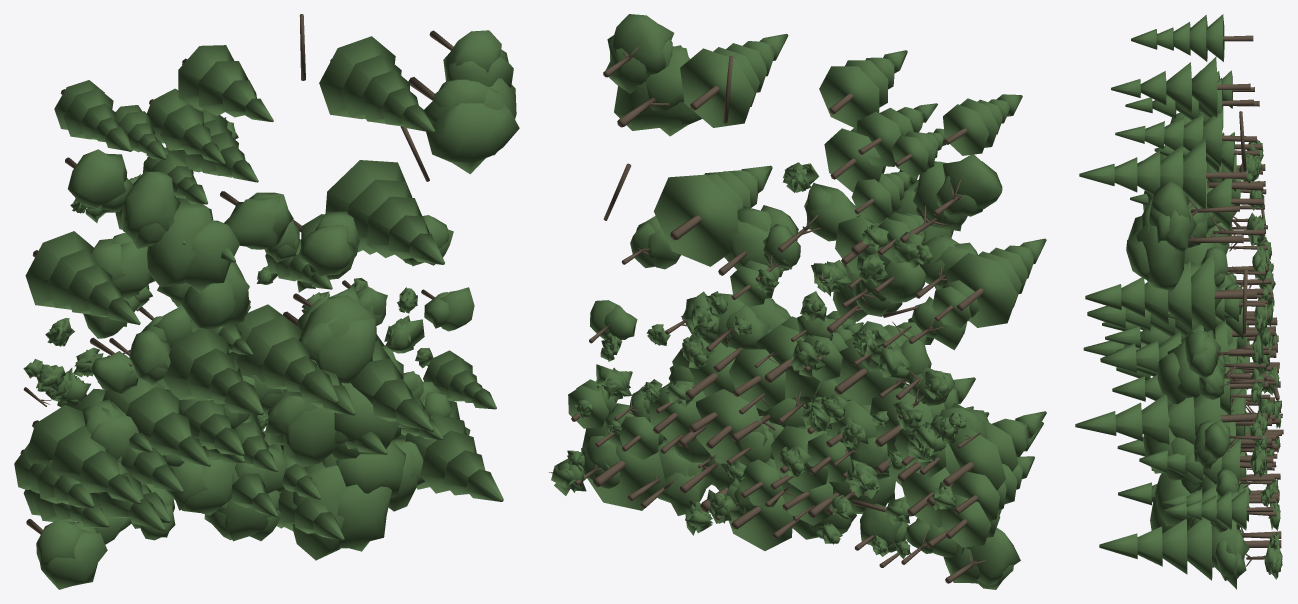
File: batch_VEG_n003_p004.glb
The picture shows the model from 3 angles, left to right: view 1: azimuth 30°, elevation 25°; view 2: azimuth 150°, elevation 25°; view 3: azimuth 270°, elevation 25°; orthographic projection. The views are drawn at different scales.
Visible parts, largest first — view 1: SAR_Tree_0013.001; view 2: SAR_Tree_0013.001; view 3: SAR_Tree_0013.001.
Part boxes in pixels (x1,y1,x2,y2): SAR_Tree_0013.001: [14, 14, 519, 589]; SAR_Tree_0013.001: [549, 14, 1046, 589]; SAR_Tree_0013.001: [1075, 14, 1283, 589].
Bounding box in the file's own units: 53.2 × 58.46 × 24.85.
